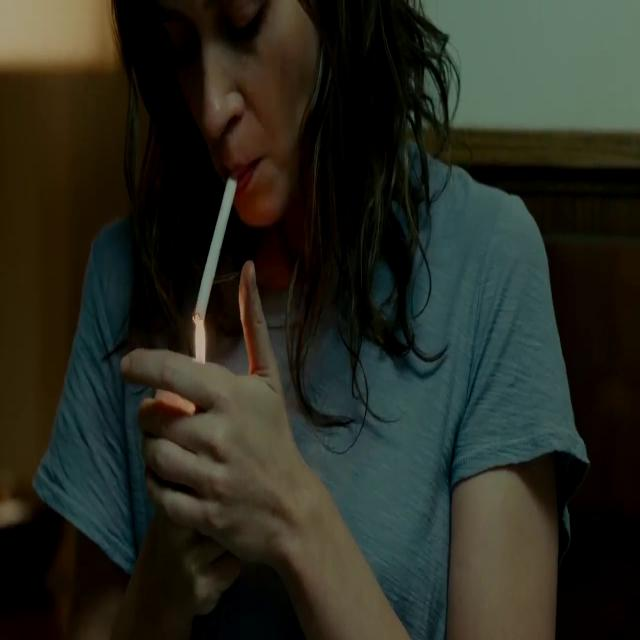Smooking: (184, 171, 239, 343)
